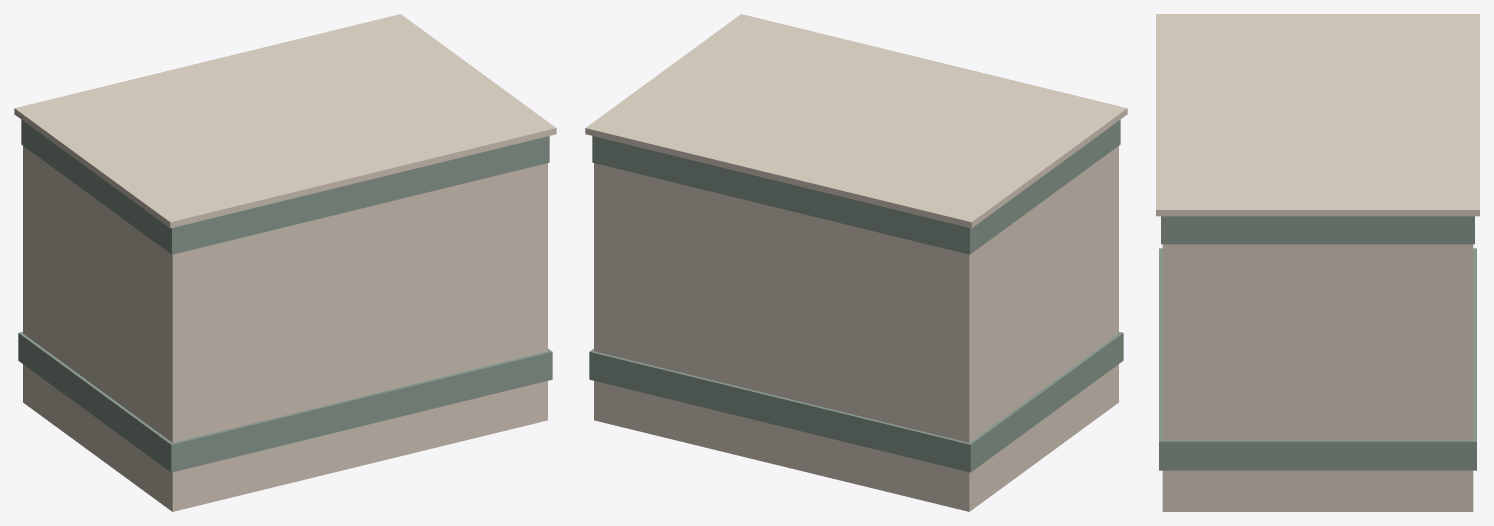
The model's file is bld_block_04.FBX.
3 views of the same model, side by side, from view 1: azimuth 30°, elevation 25°; view 2: azimuth 150°, elevation 25°; view 3: azimuth 270°, elevation 25° (orthographic). The views are drawn at different scales.
Parts seen in each view (by area): view 1: bld_block_04; view 2: bld_block_04; view 3: bld_block_04.
Part boxes in pixels (bbox=[...]): bld_block_04: bbox=[14, 14, 556, 511]; bld_block_04: bbox=[585, 14, 1127, 511]; bld_block_04: bbox=[1156, 14, 1479, 511].
Bounding box in the file's own units: 1175 × 852 × 821.
